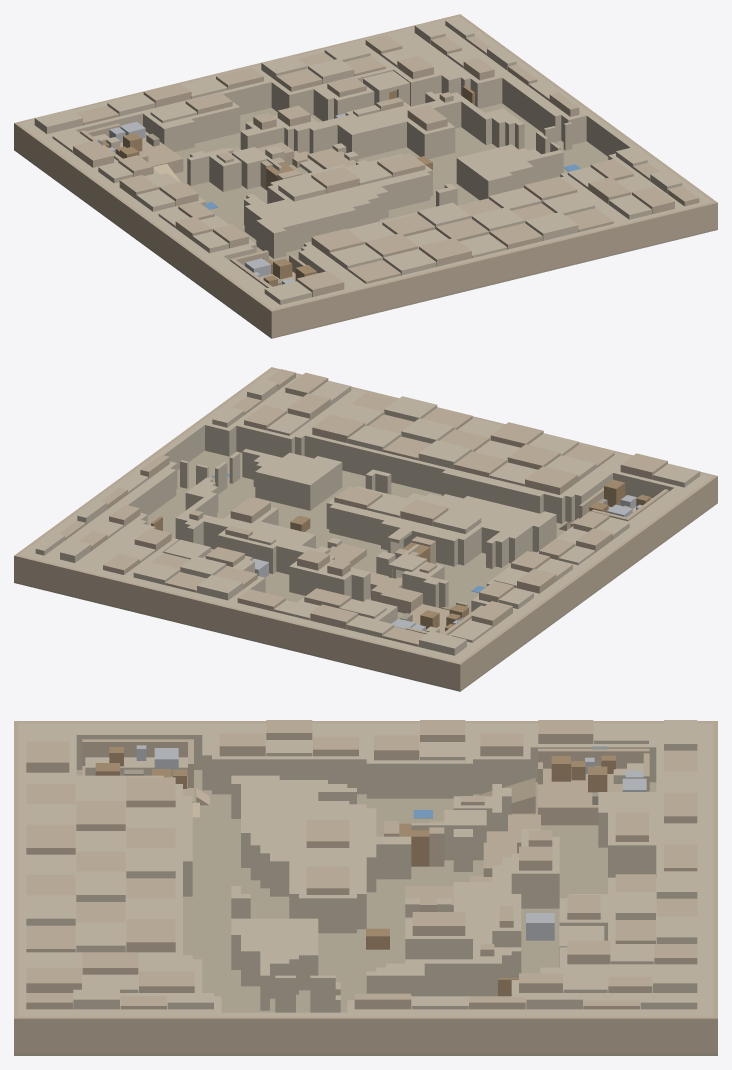
The model's file is de_dust2.glb.
3 views of the same model, one above another, from view 1: azimuth 30°, elevation 25°; view 2: azimuth 150°, elevation 25°; view 3: azimuth 270°, elevation 25° (orthographic). The views are drawn at different scales.
Parts seen in each view (by area): view 1: box_003_wall, box_000_floor, box_001_wall, box_089_wall, box_048_wall, box_085_wall, box_092_wall, box_059_wall, box_084_wall, box_068_wall, box_108_wall, box_086_wall (+83 smaller); view 2: box_004_wall, box_000_floor, box_001_wall, box_044_wall, box_048_wall, box_041_wall, box_060_wall, box_055_wall, box_046_wall, box_089_wall, box_038_wall, box_108_wall (+77 smaller); view 3: box_000_floor, box_002_wall, box_039_wall, box_090_wall, box_056_wall, box_048_wall, box_044_wall, box_038_wall, box_087_wall, box_197_platform, box_084_wall, box_062_wall (+140 smaller).
Boxes of the visible parts, bbox=[...] form: box_003_wall: bbox=[273, 202, 714, 336]; box_000_floor: bbox=[14, 103, 717, 338]; box_001_wall: bbox=[14, 122, 274, 336]; box_089_wall: bbox=[434, 24, 561, 141]; box_048_wall: bbox=[457, 19, 712, 203]; box_085_wall: bbox=[27, 77, 271, 136]; box_092_wall: bbox=[345, 116, 406, 158]; box_059_wall: bbox=[255, 172, 430, 239]; box_084_wall: bbox=[143, 102, 240, 143]; box_068_wall: bbox=[267, 207, 356, 256]; box_108_wall: bbox=[19, 122, 278, 309]; box_086_wall: bbox=[400, 114, 455, 158]; box_004_wall: bbox=[17, 555, 458, 689]; box_000_floor: bbox=[14, 450, 717, 691]; box_001_wall: bbox=[457, 475, 717, 689]; box_044_wall: bbox=[304, 392, 620, 523]; box_048_wall: bbox=[22, 369, 278, 554]; box_041_wall: bbox=[442, 470, 543, 513]; box_060_wall: bbox=[329, 504, 467, 565]; box_055_wall: bbox=[255, 466, 317, 510]; box_046_wall: bbox=[236, 388, 358, 457]; box_089_wall: bbox=[47, 468, 176, 560]; box_038_wall: bbox=[19, 553, 461, 662]; box_108_wall: bbox=[454, 475, 712, 661]; box_000_floor: bbox=[14, 770, 717, 1055]; box_002_wall: bbox=[14, 1016, 717, 1053]; box_039_wall: bbox=[212, 726, 366, 794]; box_090_wall: bbox=[366, 726, 472, 798]; box_056_wall: bbox=[299, 804, 356, 933]; box_048_wall: bbox=[18, 1012, 704, 1016]; box_044_wall: bbox=[18, 784, 182, 955]; box_038_wall: bbox=[703, 723, 713, 1016]; box_087_wall: bbox=[405, 959, 501, 996]; box_197_platform: bbox=[538, 766, 649, 825]; box_084_wall: bbox=[608, 792, 656, 877]; box_062_wall: bbox=[270, 780, 289, 896].
Size of the model in its own units: 4664 by 344 by 4664.
